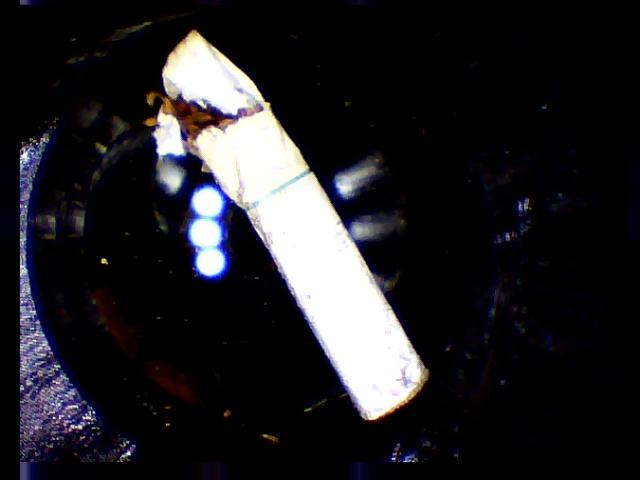megot: (141, 25, 441, 426)
